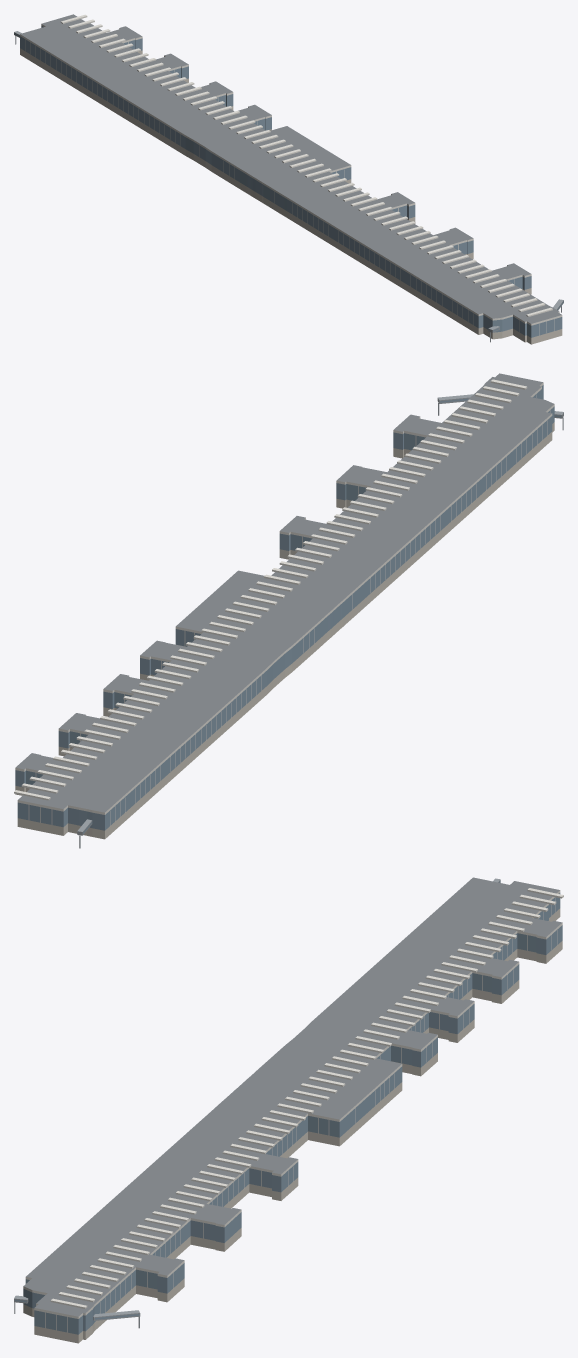
File: paris-cdg-terminal-2e-hall-l.detail.glb
3 renders of one model, top to bottom at view 1: azimuth 30°, elevation 25°; view 2: azimuth 150°, elevation 25°; view 3: azimuth 330°, elevation 25°, orthographic. The views are drawn at different scales.
Visible parts, largest first — view 1: Paris-CDG Terminal 2E Hall L; view 2: Paris-CDG Terminal 2E Hall L; view 3: Paris-CDG Terminal 2E Hall L.
Boxes of the visible parts, x1,y1,x2,y2 form: Paris-CDG Terminal 2E Hall L: (14,14,563,344); Paris-CDG Terminal 2E Hall L: (14,373,563,848); Paris-CDG Terminal 2E Hall L: (14,877,563,1343).
Size of the model in its own units: 145 by 21.2 by 766.
